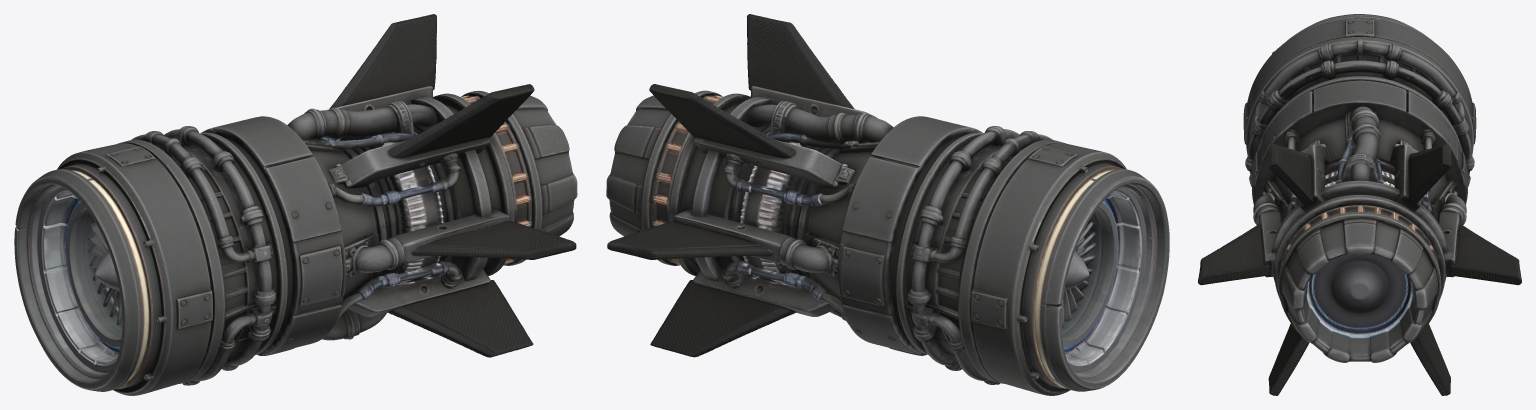
The model's file is tripo_convert_d4603718-a67d-459a-9759-f39116006d32.fbx.
3 renders of one model, left to right at view 1: azimuth 30°, elevation 25°; view 2: azimuth 150°, elevation 25°; view 3: azimuth 270°, elevation 25°, orthographic. The views are drawn at different scales.
Visible parts, largest first — view 1: tripo_node_d4603718; view 2: tripo_node_d4603718; view 3: tripo_node_d4603718.
Boxes of the visible parts, x1=… form: tripo_node_d4603718: x1=14, y1=14, x2=577, y2=395; tripo_node_d4603718: x1=606, y1=14, x2=1169, y2=395; tripo_node_d4603718: x1=1198, y1=14, x2=1521, y2=395.
Size of the model in its own units: 0.98 by 0.5208 by 0.6507.
Materials: 1 (1 with a texture image).
